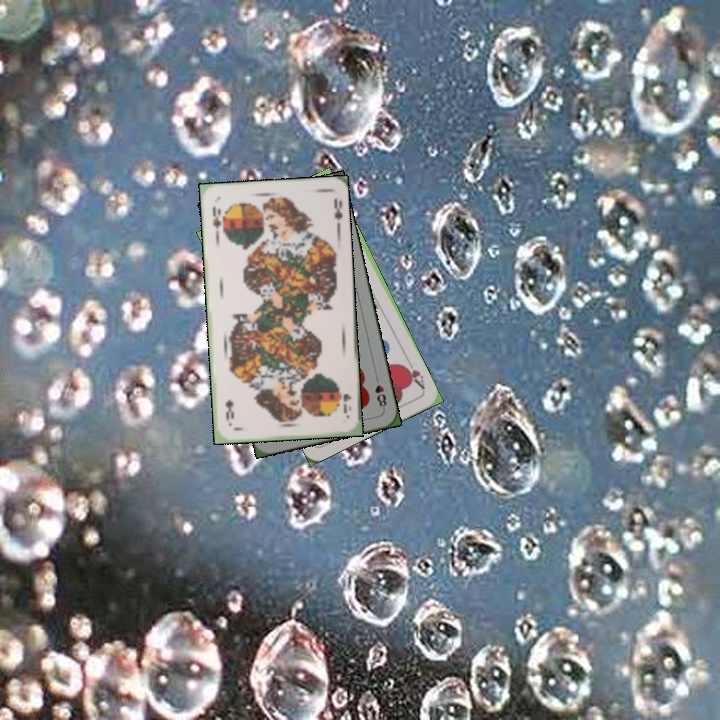H8: (371, 372, 389, 412)
HA: (399, 355, 428, 392)
SO: (335, 380, 353, 416), (208, 202, 224, 239)
